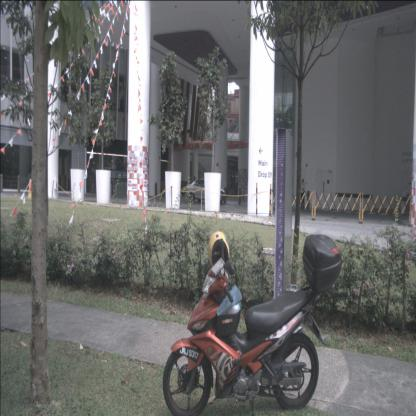human-pedestrian-adult: (300, 178, 306, 210)
movable_object-trafficcone: (28, 179, 33, 199)
vehicle-car: (186, 180, 226, 204)
vehicle-motorcycle: (162, 232, 342, 416)
